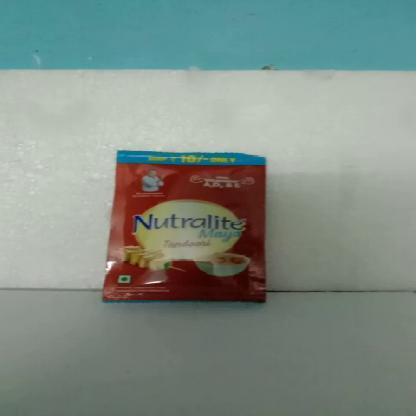Nutralite TANDOORI MAYO 30g: (111, 152, 268, 302)
